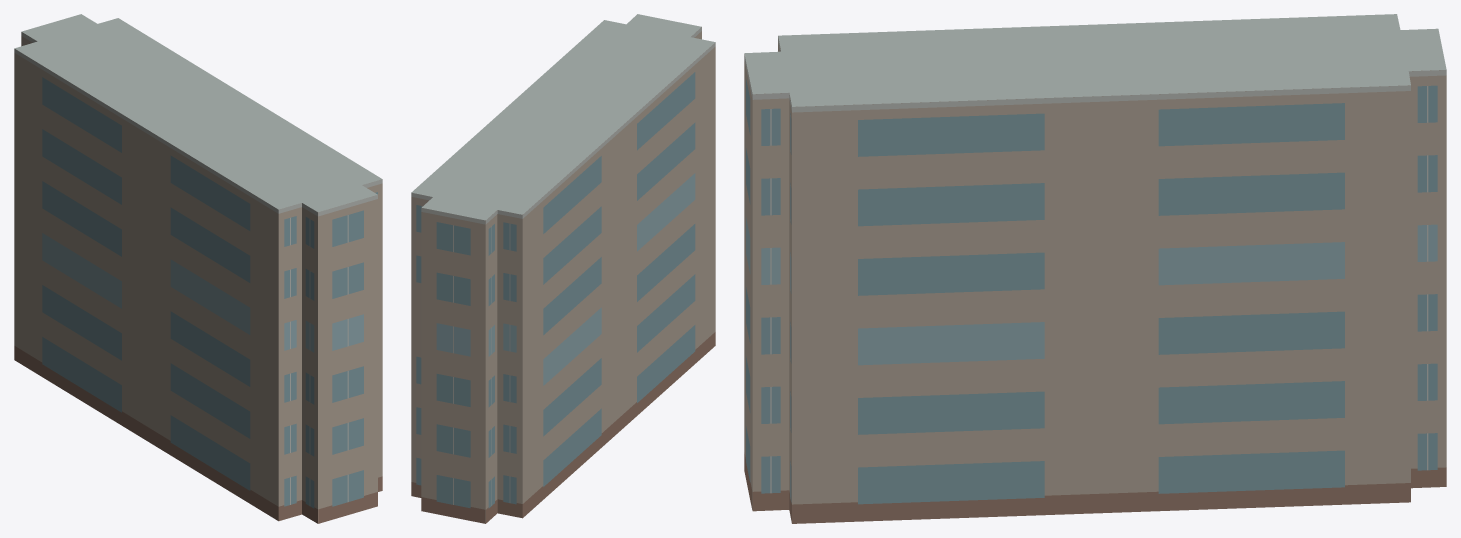
Rendered from survey-upis-32636115.glb.
3 renders of one model, left to right at view 1: azimuth 30°, elevation 25°; view 2: azimuth 150°, elevation 25°; view 3: azimuth 270°, elevation 25°, orthographic. The views are drawn at different scales.
Visible parts, largest first — view 1: survey-upis-32636115.tmp; view 2: survey-upis-32636115.tmp; view 3: survey-upis-32636115.tmp.
Part boxes in pixels (x1,y1,x2,y2): survey-upis-32636115.tmp: (14, 14, 382, 523); survey-upis-32636115.tmp: (411, 14, 715, 523); survey-upis-32636115.tmp: (744, 14, 1446, 523).
Size of the model in its own units: 8.66 by 18.1 by 27.64.
